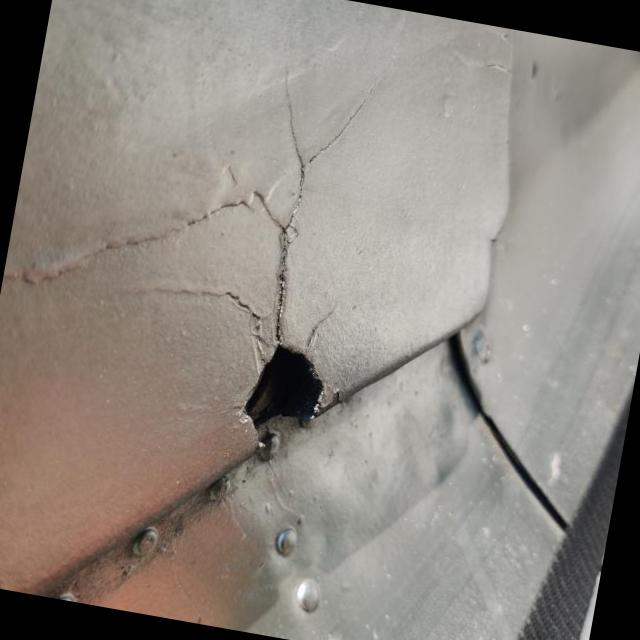Crack: (217, 56, 388, 456)
